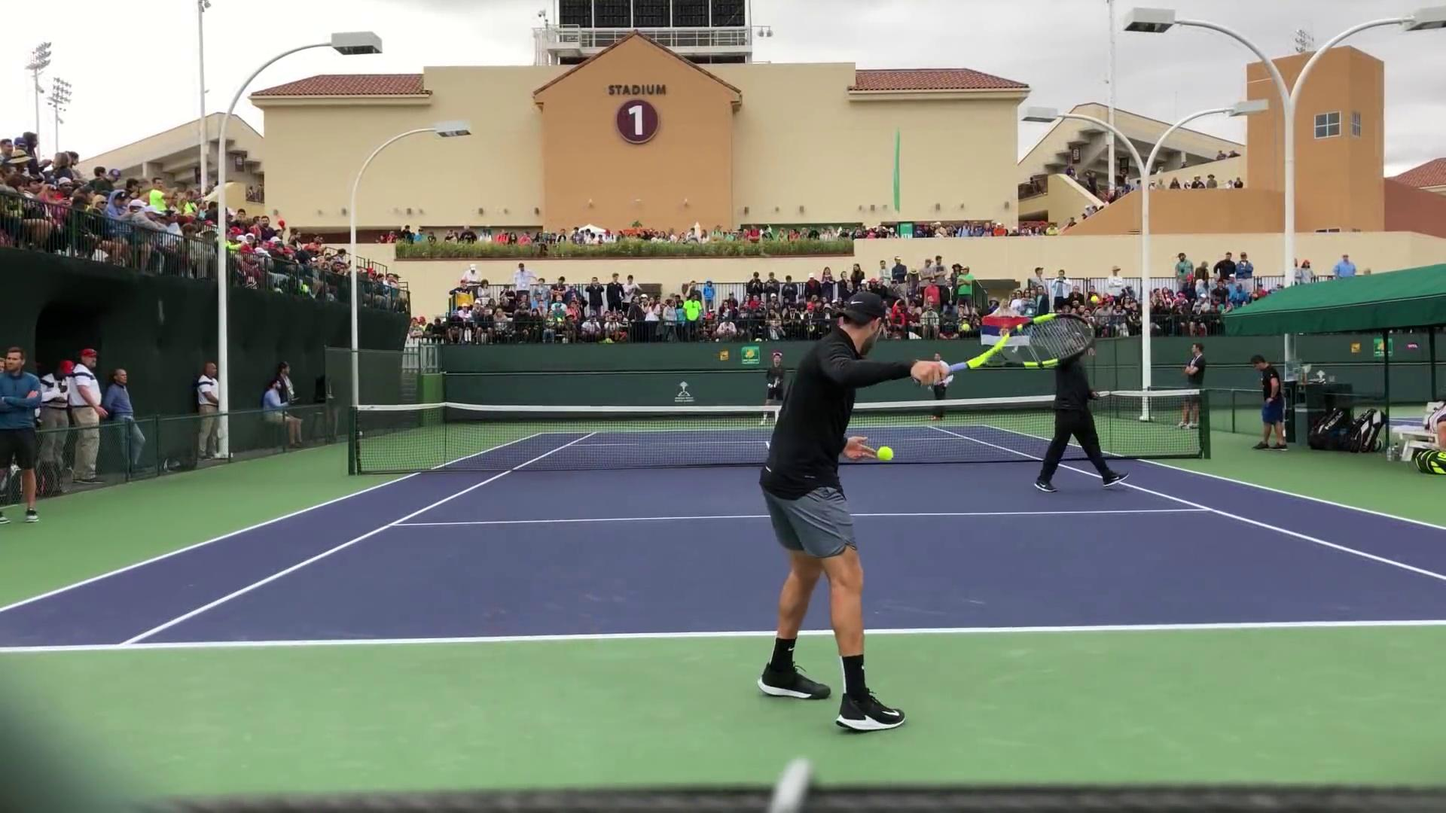ball: (870, 443, 893, 463), (158, 299, 161, 302)
